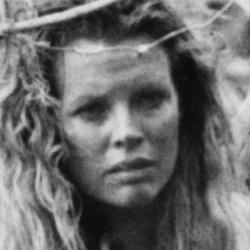face: (7, 6, 236, 243)
